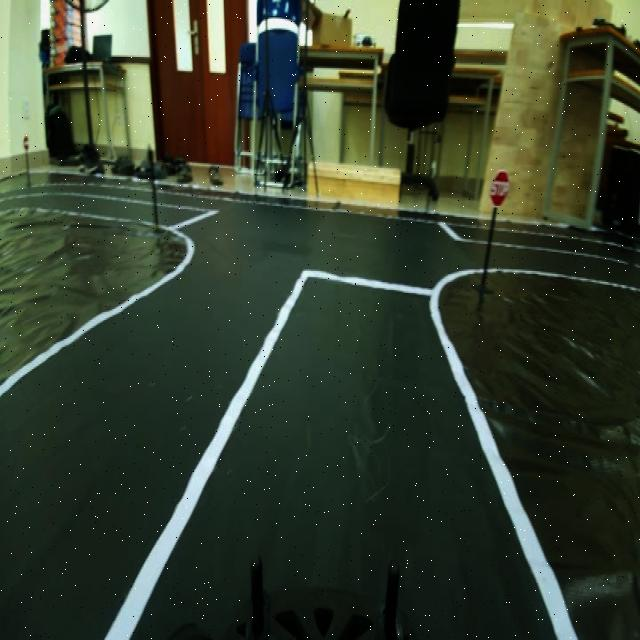stop: (486, 168, 516, 212)
